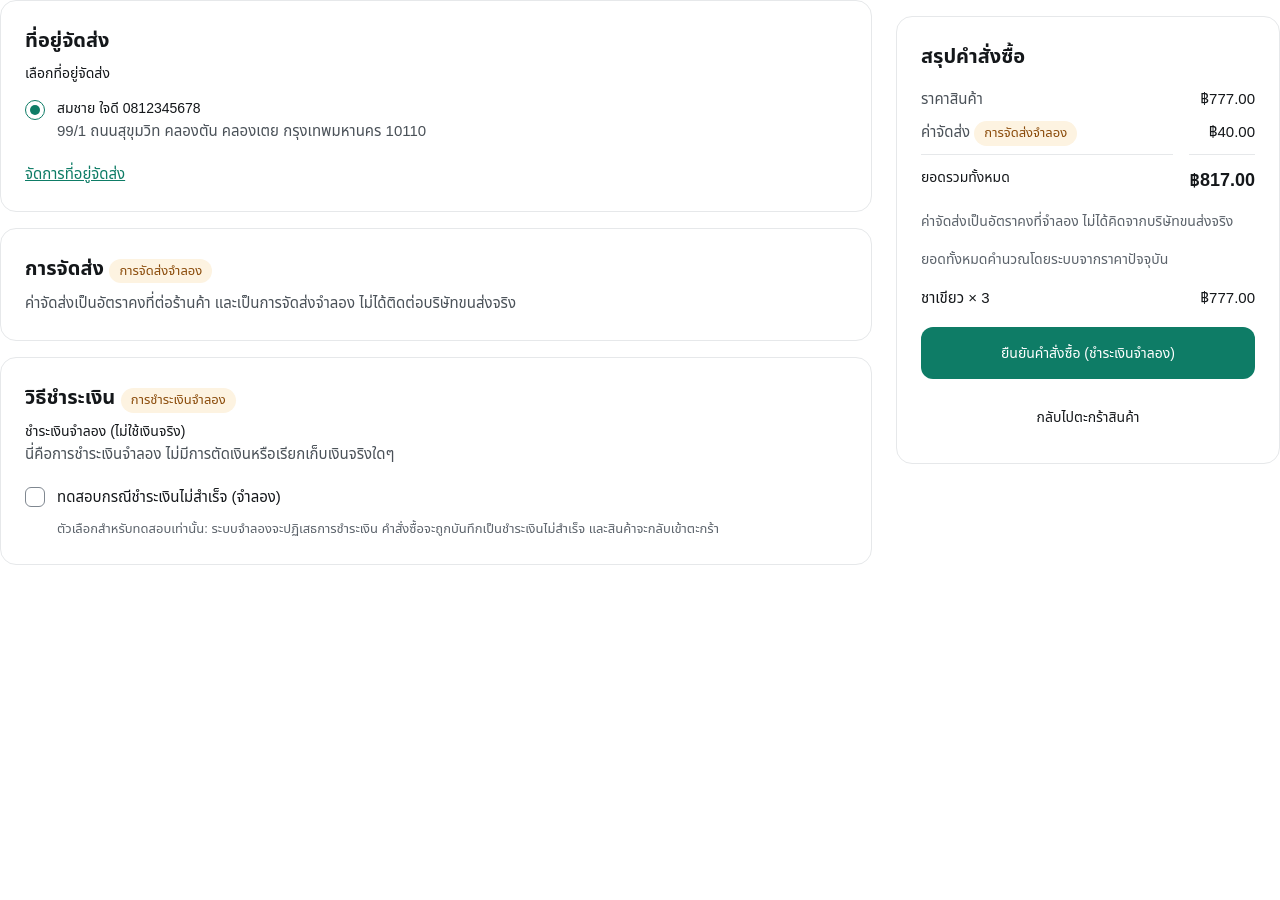
Test: CheckoutView submit › says sold out only for zero stock; an unknown figure gets the general stock text
This screenshot has width=1280, height=900.
What coordinates should you click on to do the following:
click the button "ยืนยันคำสั่งซื้อ (ชำระเงินจำลอง)"
I would click on:
 (1088, 353)
Its box is [921, 327, 1255, 379].
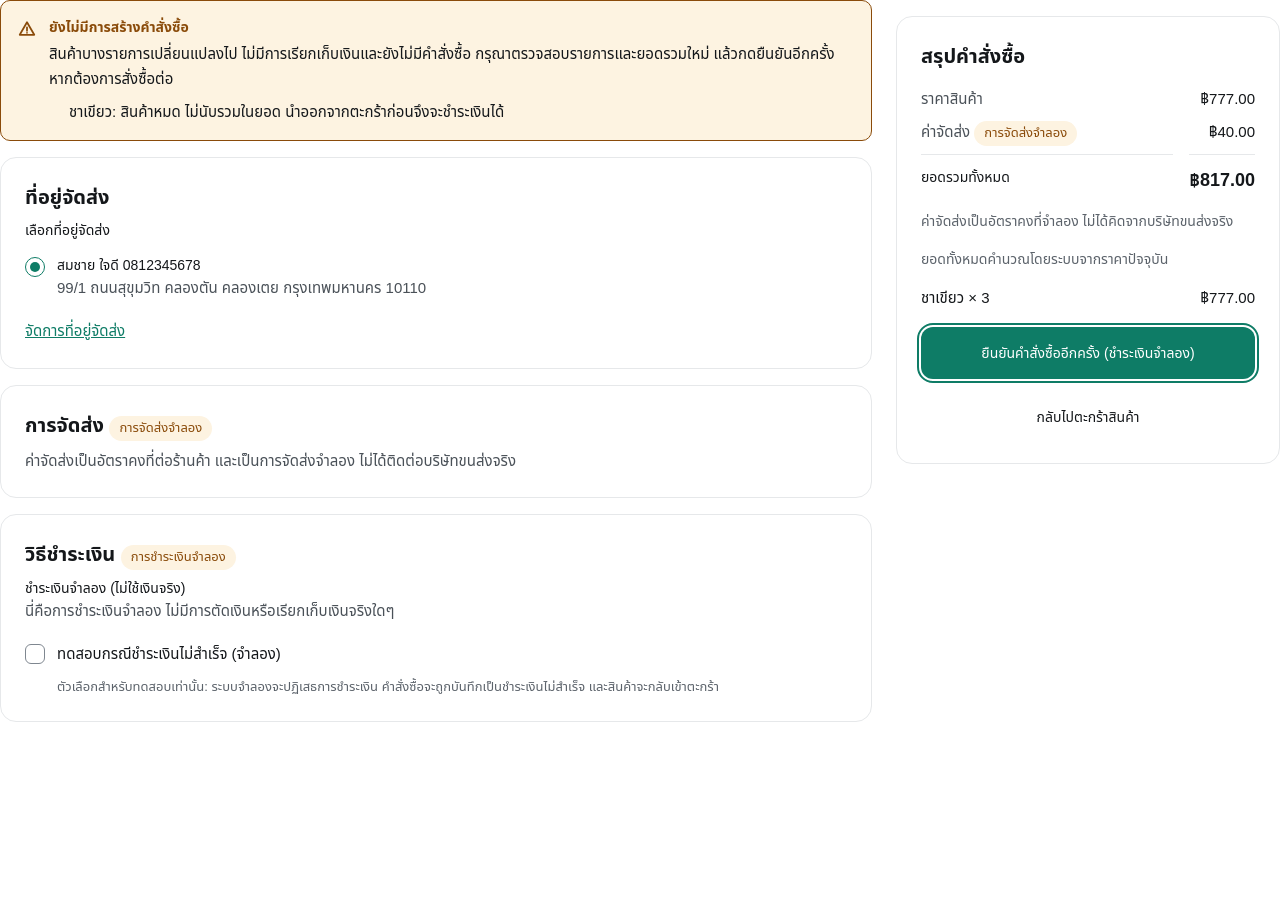
Result: the text "ยังไม่มีการสร้างคำสั่งซื้อ" shows "สินค้าหมด ไม่นับรวมในยอด นำออกจากตะกร้าก่อนจึงจะชำระเงินได้" at [120, 102, 504, 120]
What coordinates should you click on to do the following:
click the button "ยืนยันคำสั่งซื้ออีกครั้ง (ชำระเงินจำลอง)"
I would click on:
 (1088, 353)
Its box is [921, 327, 1255, 379].
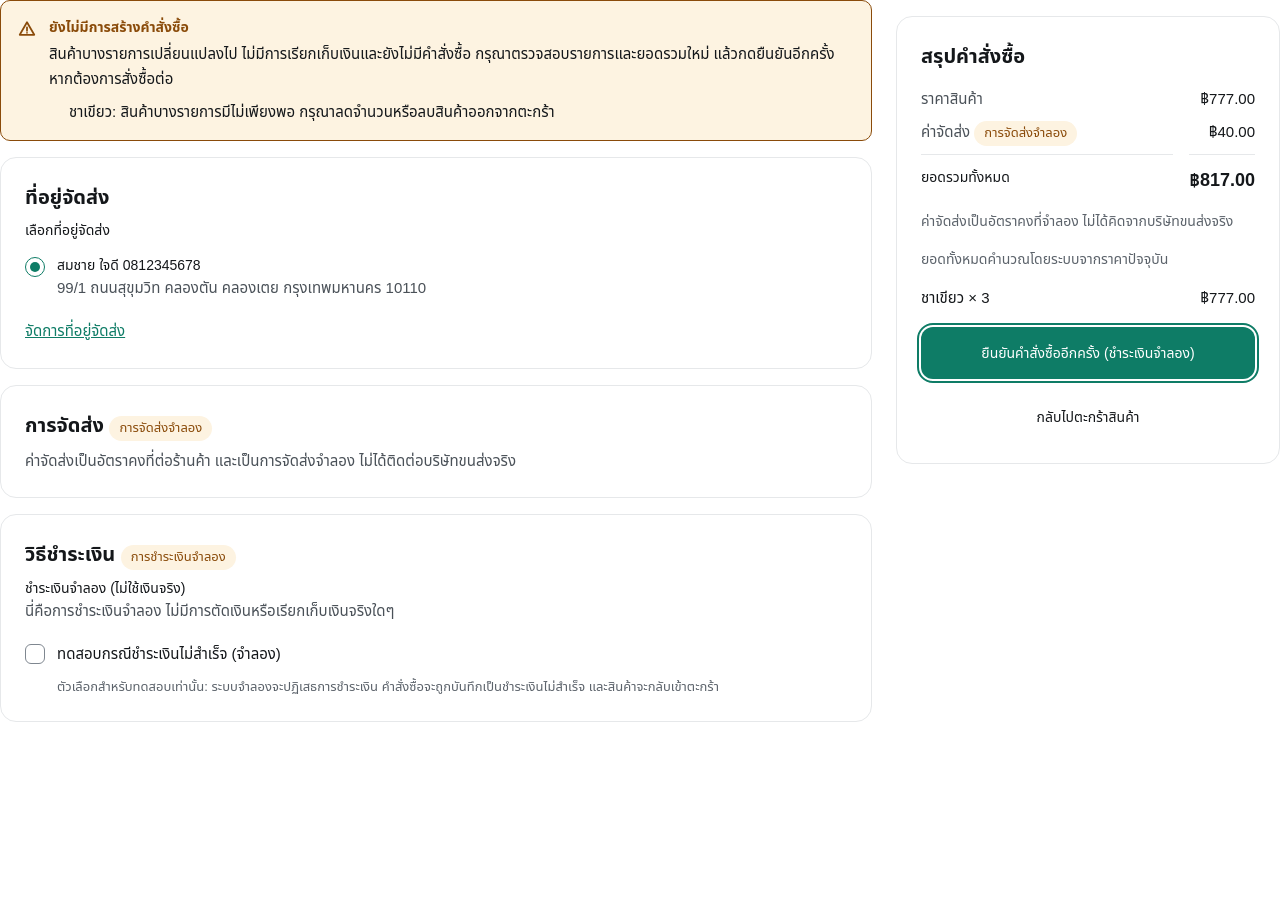
Result: the text "ยังไม่มีการสร้างคำสั่งซื้อ" shows "สินค้าบางรายการมีไม่เพียงพอ กรุณาลดจำนวนหรือลบสินค้าออกจากตะกร้า" at [120, 102, 555, 120]
Result: the list item "ยังไม่มีการสร้างคำสั่งซื้อ" no longer shows "สินค้าหมด ไม่นับรวมในยอด นำออกจากตะกร้าก่อนจึงจะชำระเงินได้"
